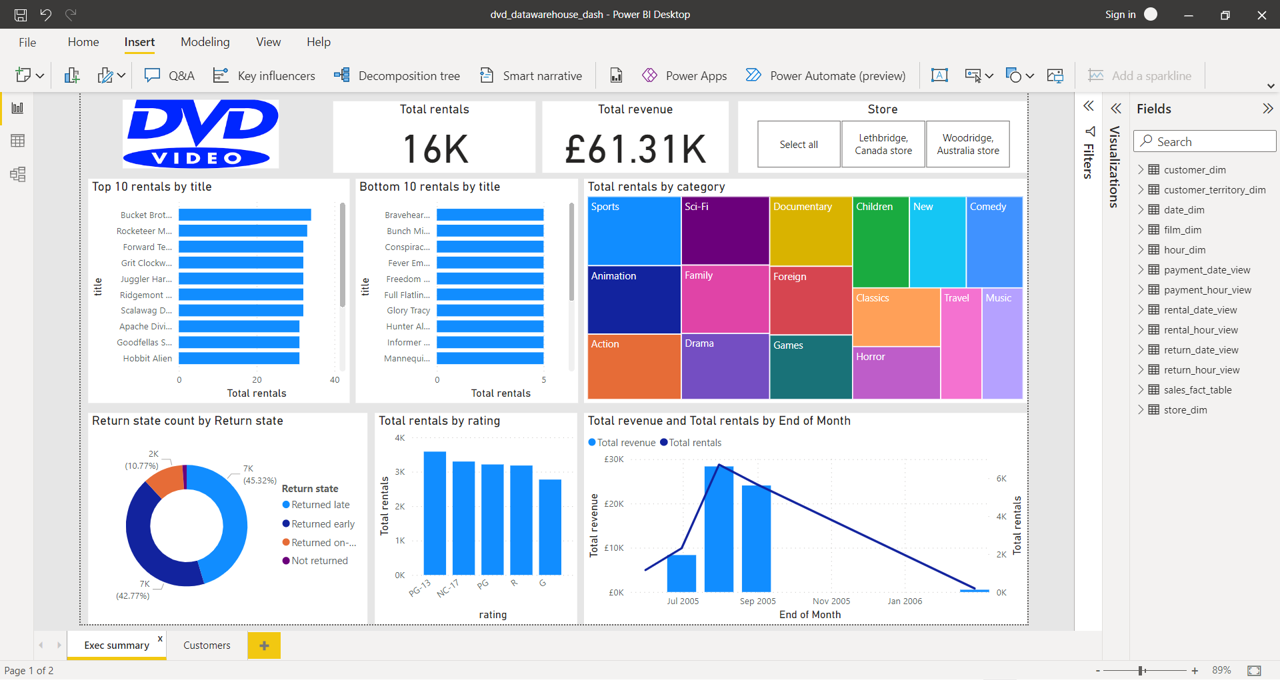

The dashboard page shown, as its layout file describes it:
{"tool":"powerbi","page":{"name":"Exec summary","canvas":[1280,720],"ordinal":0},"visuals":[{"type":"clusteredBarChart","title":"Top 10 rentals by title","fields":{"Category":["film_dim.title"],"Y":["sales_fact_table.Total rentals"]},"box":[9.8,117.4,353.3,303.2],"z":0},{"type":"card","title":"Total rentals","fields":{"Values":["sales_fact_table.Total rentals"]},"box":[341.1,12.2,273.8,96.6],"z":1000},{"type":"card","title":"Total revenue","fields":{"Values":["sales_fact_table.Total revenue"]},"box":[624.7,12.2,251.8,96.6],"z":2000},{"type":"treemap","fields":{"Values":["sales_fact_table.Total rentals"],"Group":["film_dim.category"]},"box":[680.9,117.4,599,303.2],"z":3000},{"type":"clusteredBarChart","title":"Bottom 10 rentals by title","fields":{"Y":["sales_fact_table.Total rentals"],"Category":["film_dim.title"]},"box":[371.6,117.4,300.7,303.2],"z":4000},{"type":"clusteredColumnChart","fields":{"Y":["sales_fact_table.Total rentals"],"Category":["film_dim.rating"]},"box":[397.3,434,273.8,286],"z":5000},{"type":"donutChart","fields":{"Y":["sales_fact_table.Return state count"],"Category":["sales_fact_table.Return state"]},"box":[9.8,434,377.7,286],"z":6000},{"type":"lineClusteredColumnComboChart","fields":{"Category":["date_dim.End of Month","date_dim.End of Week"],"Y2":["sales_fact_table.Total rentals"],"Y":["sales_fact_table.Total revenue"]},"box":[680.9,434,599,286],"z":7000},{"type":"slicer","title":"Store","fields":{"Values":["store_dim.store_name"]},"box":[888.7,12.2,391.2,96.6],"z":7001},{"type":"image","box":[0,6.1,323.9,102.7],"z":7002}]}

Visuals, with their boxes on the page's 1280x720 design canvas (x1, y1, x2, y2). These are canvas units, not pixel positions in the 1280x680 screenshot, which may show the page scaled, cropped or inside an application window:
"Top 10 rentals by title" clusteredBarChart: (10, 117, 363, 421)
"Total rentals" card: (341, 12, 615, 109)
"Total revenue" card: (625, 12, 876, 109)
treemap - sales_fact_table.Total rentals x film_dim.category: (681, 117, 1280, 421)
"Bottom 10 rentals by title" clusteredBarChart: (372, 117, 672, 421)
clusteredColumnChart - sales_fact_table.Total rentals x film_dim.rating: (397, 434, 671, 720)
donutChart - sales_fact_table.Return state count x sales_fact_table.Return state: (10, 434, 388, 720)
lineClusteredColumnComboChart - date_dim.End of Month x date_dim.End of Week: (681, 434, 1280, 720)
"Store" slicer: (889, 12, 1280, 109)
image: (0, 6, 324, 109)
